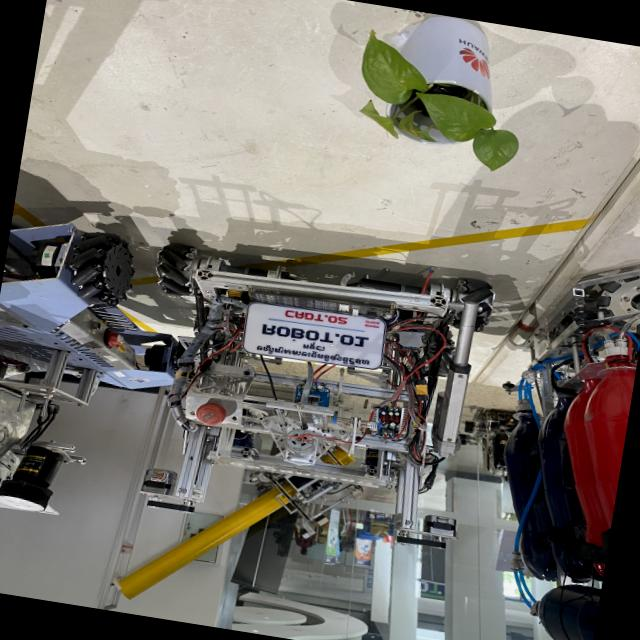90: (334, 332, 371, 350)
93: (322, 314, 351, 327)
Yolov11_80vkh: (254, 343, 371, 368), (300, 340, 326, 352)
